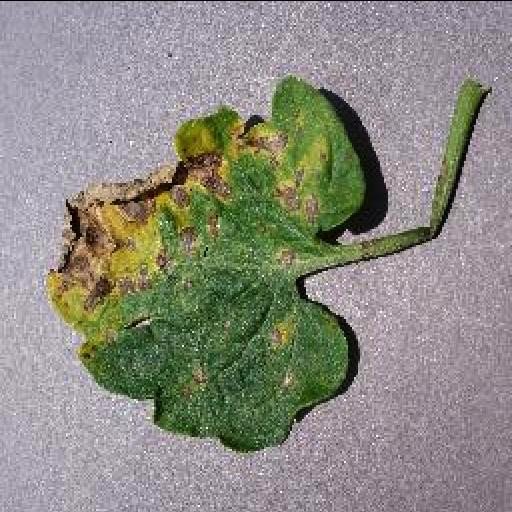disease_tomato: (42, 76, 368, 450)
